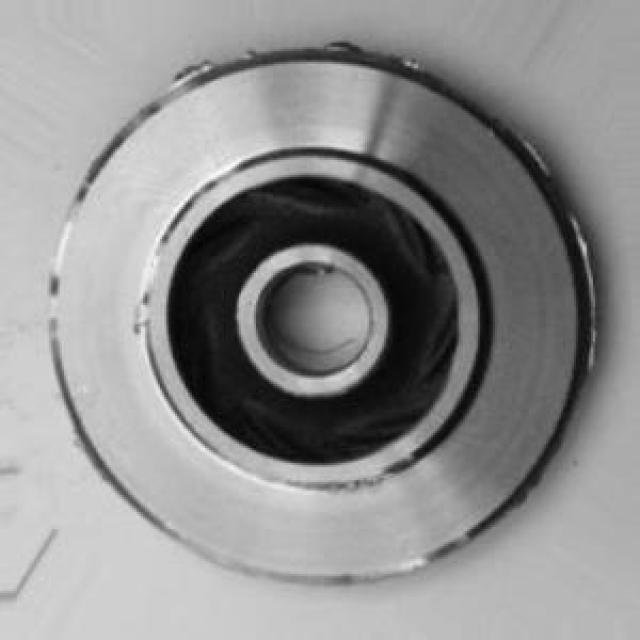Defect: (127, 292, 164, 343)
